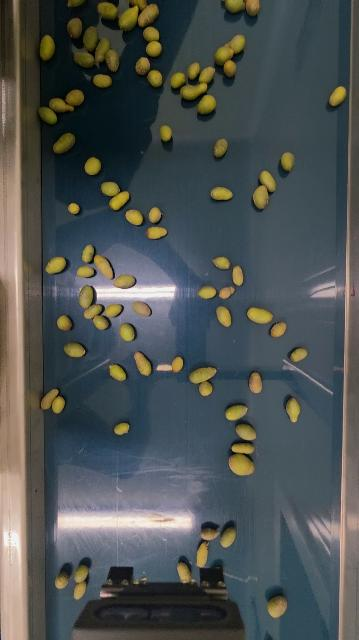Baby Potato: (228, 451, 257, 477), (117, 4, 141, 31), (136, 2, 160, 28), (179, 81, 209, 101), (53, 132, 77, 156), (267, 594, 289, 619), (94, 254, 115, 280), (133, 350, 153, 377), (247, 306, 274, 325), (93, 37, 112, 64), (48, 96, 76, 114), (38, 34, 56, 61), (196, 93, 218, 115), (214, 42, 235, 65), (44, 255, 68, 275), (82, 24, 99, 52), (189, 366, 217, 383), (109, 190, 130, 212), (286, 396, 302, 424), (236, 422, 258, 442), (40, 387, 59, 410), (66, 16, 85, 39), (96, 1, 119, 20), (225, 404, 249, 422), (253, 185, 270, 210), (78, 284, 95, 309), (73, 49, 95, 68), (260, 169, 278, 192), (329, 85, 347, 108), (231, 440, 258, 455), (229, 33, 247, 55), (104, 49, 121, 72), (177, 561, 193, 585), (108, 363, 128, 382), (38, 107, 59, 125), (196, 541, 210, 568), (216, 306, 233, 328), (249, 371, 265, 394), (63, 342, 86, 358), (221, 526, 237, 549), (144, 39, 163, 58), (84, 156, 102, 176), (199, 64, 217, 84), (114, 273, 136, 289), (210, 186, 233, 201), (169, 70, 187, 89), (66, 88, 85, 106), (132, 300, 152, 317), (147, 68, 164, 88), (92, 73, 113, 89), (135, 56, 152, 75), (125, 209, 144, 226), (142, 25, 161, 42), (119, 322, 135, 342), (73, 563, 89, 583), (281, 151, 296, 172), (214, 137, 229, 158), (187, 60, 201, 82), (270, 321, 288, 338), (244, 0, 262, 17), (84, 303, 103, 319), (103, 303, 123, 318), (76, 264, 96, 279), (232, 264, 245, 287), (223, 0, 246, 13), (52, 394, 66, 415), (147, 225, 168, 239), (200, 527, 221, 541), (222, 59, 238, 77), (291, 346, 309, 362), (101, 181, 120, 196), (73, 581, 87, 601), (56, 314, 72, 331), (213, 255, 231, 270), (198, 285, 217, 299), (148, 205, 162, 224), (198, 380, 214, 396), (93, 314, 110, 329), (159, 124, 173, 142), (82, 244, 95, 263), (55, 572, 69, 589), (128, 0, 150, 10), (114, 422, 130, 435), (219, 286, 235, 299), (172, 356, 184, 373), (66, 0, 89, 8), (67, 202, 80, 215)
